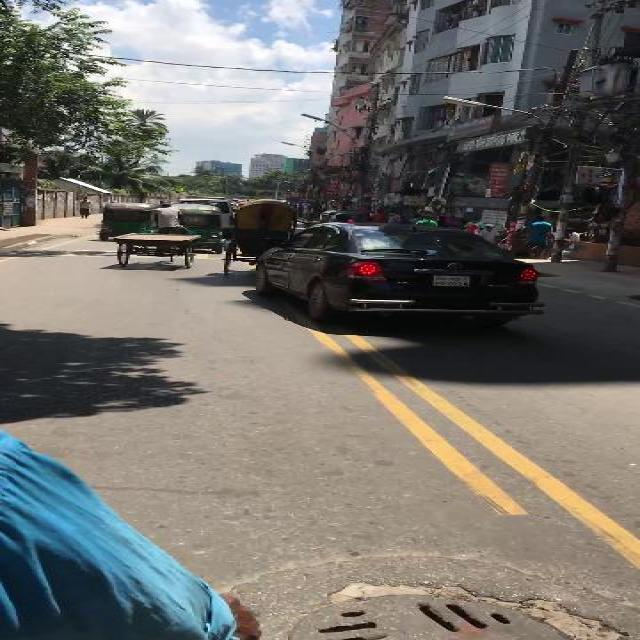vehicle: (252, 222, 547, 328), (111, 200, 204, 271), (222, 198, 296, 278), (172, 204, 225, 254), (101, 202, 158, 241)
